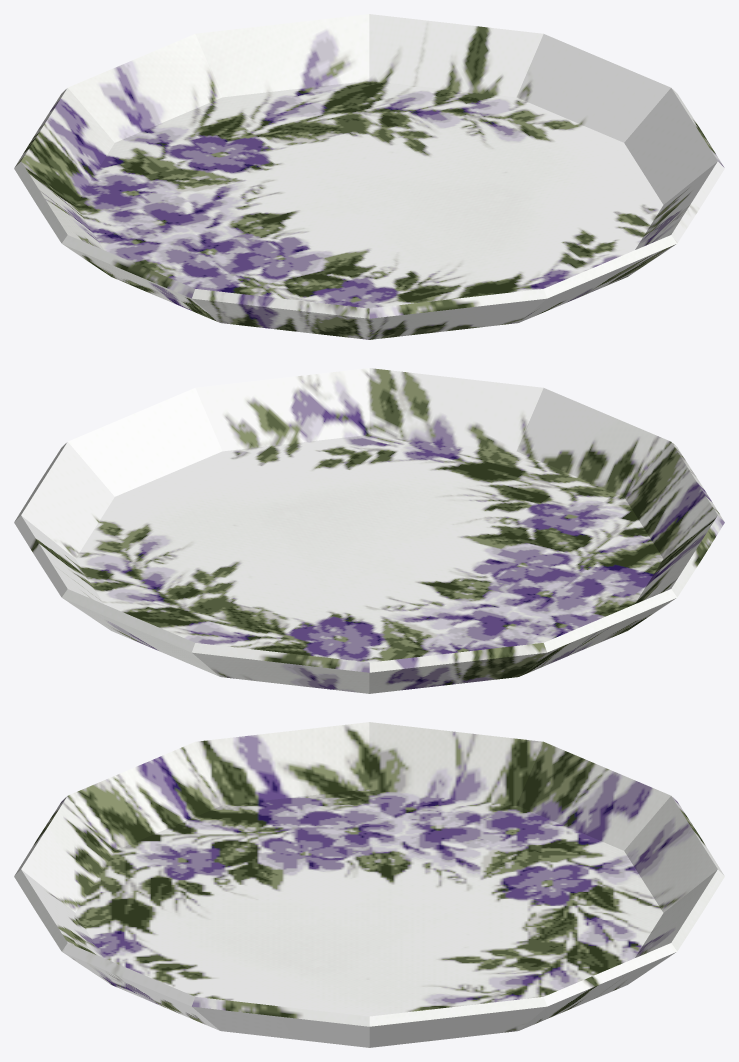
The model's file is psx_plate.fbx.
3 views of the same model, one above another, from view 1: azimuth 30°, elevation 25°; view 2: azimuth 150°, elevation 25°; view 3: azimuth 270°, elevation 25° (orthographic).
Parts seen in each view (by area): view 1: Circle_0; view 2: Circle_0; view 3: Circle_0.
Part boxes in pixels (x1,y1,x2,y2): Circle_0: (14, 14, 724, 339); Circle_0: (14, 368, 724, 693); Circle_0: (14, 722, 724, 1047).
Size of the model in its own units: 0.3329 by 0.0276 by 0.3329.
1 material, 1 textured.
